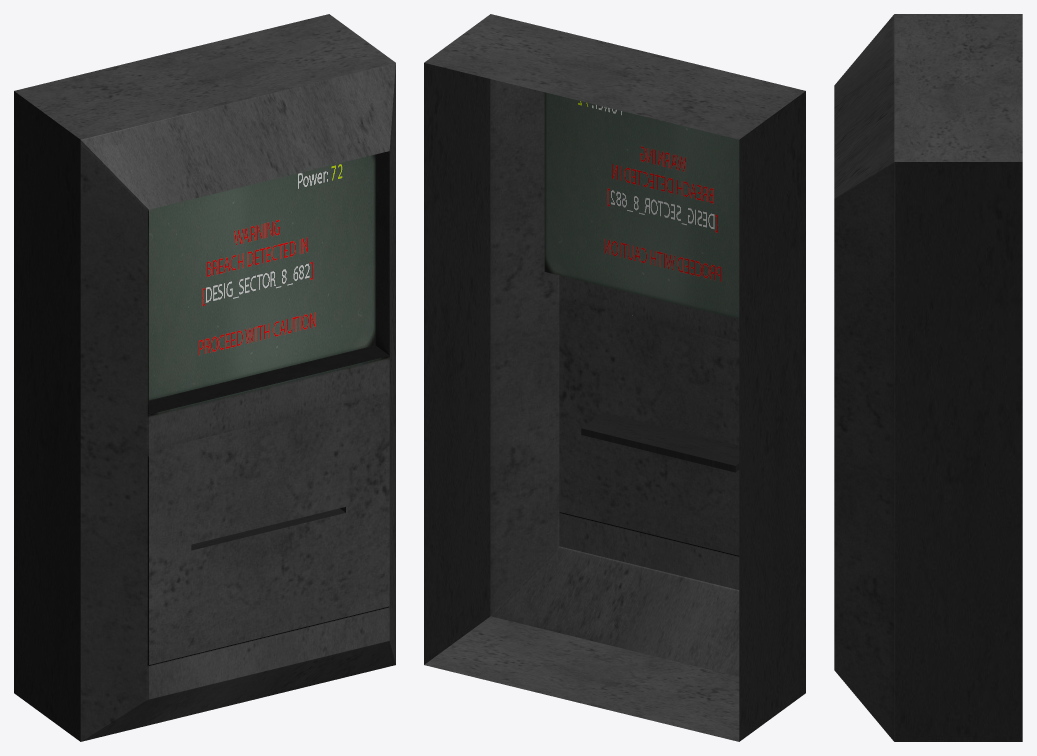
File: ButtonKeycardNew.x.dae
The picture shows the model from 3 angles, left to right: view 1: azimuth 30°, elevation 25°; view 2: azimuth 150°, elevation 25°; view 3: azimuth 270°, elevation 25°; orthographic projection. The views are drawn at different scales.
Parts seen in each view (by area): view 1: Scene_Root; view 2: Scene_Root; view 3: Scene_Root.
Part boxes in pixels (<box>): Scene_Root: <box>14,14,395,741</box>; Scene_Root: <box>424,14,805,741</box>; Scene_Root: <box>834,14,1022,741</box>.
Size of the model in its own units: 0.0277 by 0.0149 by 0.0505.
